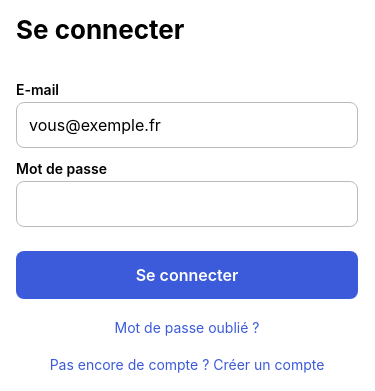
Inscription (mobile) › refuse un e-mail invalide sans appeler l’API
Click the link with test id "to-register" at (187, 364), box [50,356,324,372]
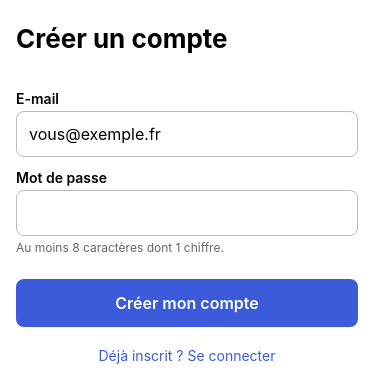
Check: the heading "Créer un compte" is shown, box [16,22,228,54]
Type "alice@example" into the field with test id "email" at (187, 134), box [16,110,358,156]
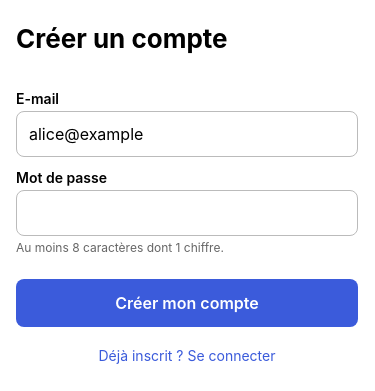
Type "motdepasse1" into the password field with test id "password" at (187, 212), box [16,190,358,236]
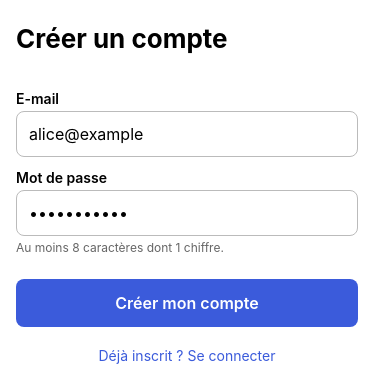
Click the button with test id "submit" at (187, 302), box [16,278,358,326]
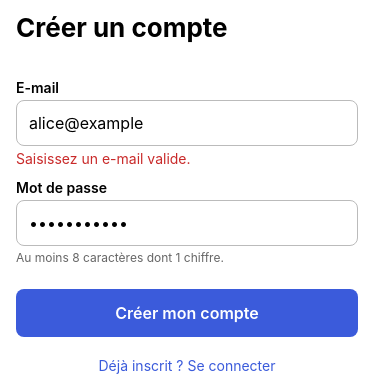
Check: the text with test id "email-error" reads "Saisissez un e-mail valide.", box [16,150,191,167]
